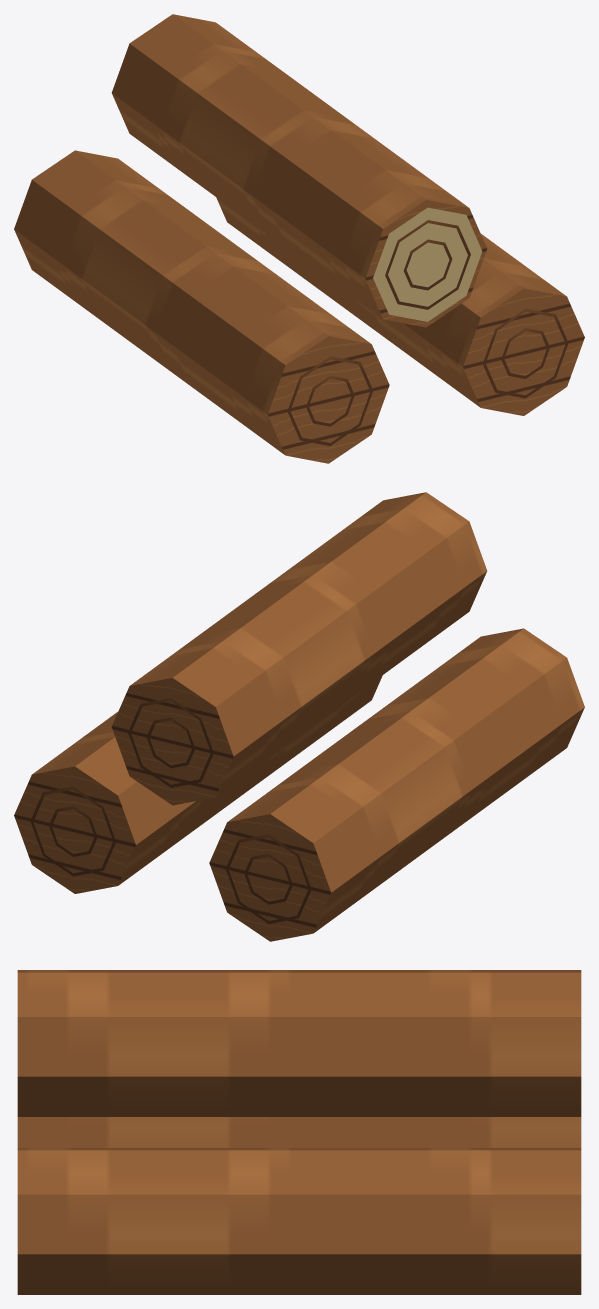
File: prop-log-cell-1x1.glb
The picture shows the model from 3 angles, top to bottom: view 1: azimuth 30°, elevation 25°; view 2: azimuth 150°, elevation 25°; view 3: azimuth 270°, elevation 25°; orthographic projection. The views are drawn at different scales.
Parts seen in each view (by area): view 1: prop-log-cell-1x1; view 2: prop-log-cell-1x1; view 3: prop-log-cell-1x1.
Part boxes in pixels (x1,y1,x2,y2): prop-log-cell-1x1: (14, 14, 584, 463); prop-log-cell-1x1: (14, 492, 584, 941); prop-log-cell-1x1: (17, 970, 581, 1294).
Size of the model in its own units: 0.65 by 0.47 by 0.912.
Materials: 1 (1 with a texture image).
